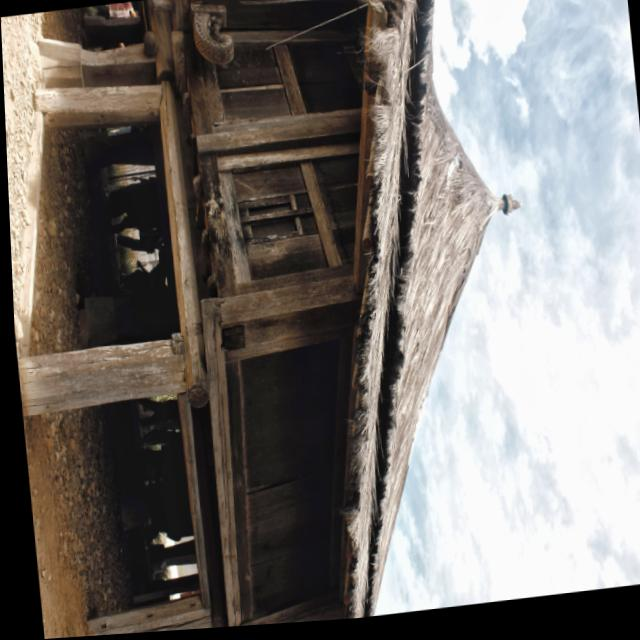Atap: (349, 0, 521, 618)
